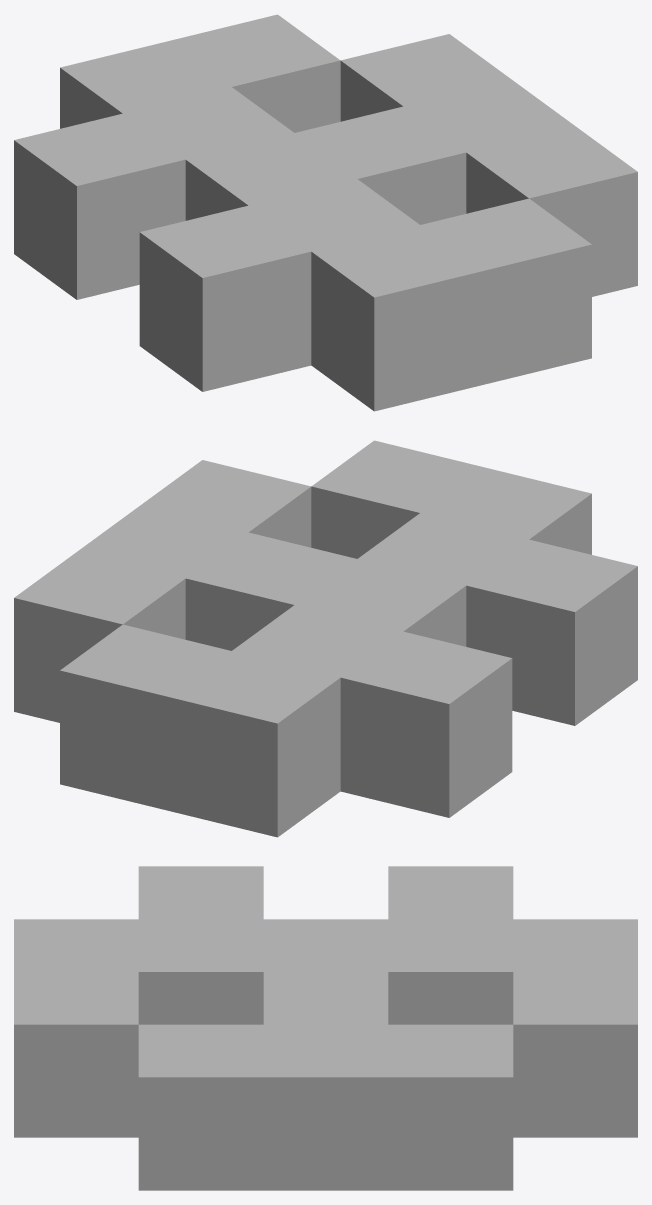
The model's file is bones-1.gltf.
3 renders of one model, top to bottom at view 1: azimuth 30°, elevation 25°; view 2: azimuth 150°, elevation 25°; view 3: azimuth 270°, elevation 25°, orthographic.
Visible parts, largest first — view 1: bones-1; view 2: bones-1; view 3: bones-1.
Part boxes in pixels (x1,y1,x2,y2): bones-1: (14,14,637,411); bones-1: (14,440,637,837); bones-1: (14,866,637,1190).
Size of the model in its own units: 0.4 by 0.1 by 0.5.
Materials: 1 (1 with a texture image).
